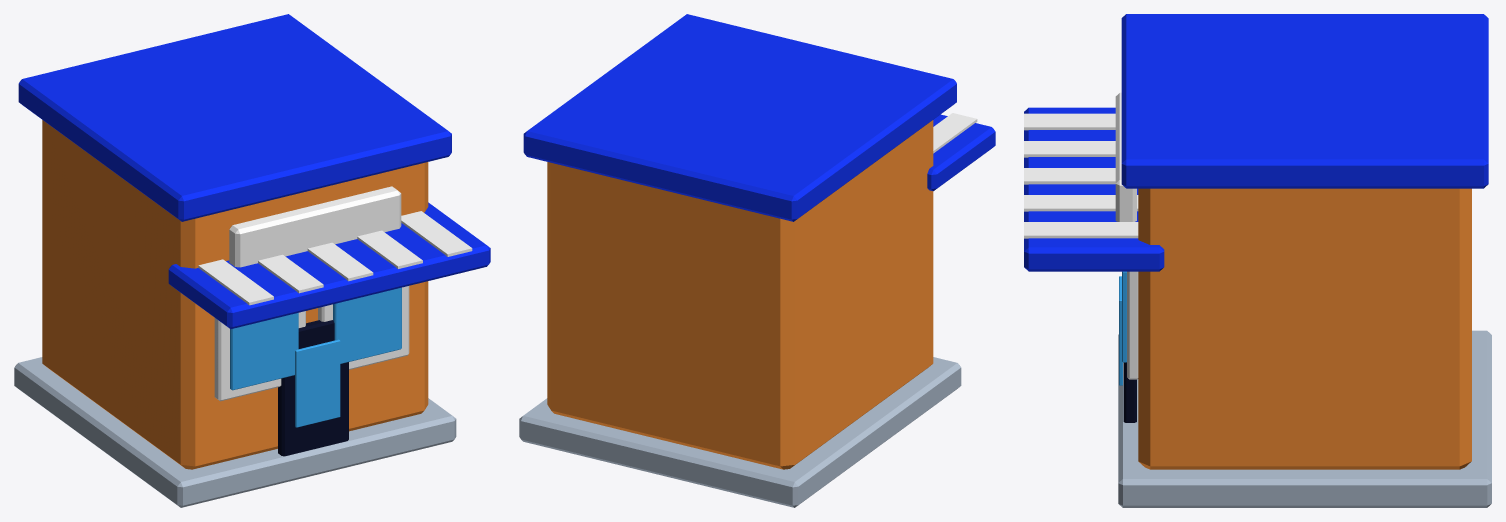
File: ENV_streets_kiosk__v001__model.fbx
3 renders of one model, left to right at view 1: azimuth 30°, elevation 25°; view 2: azimuth 150°, elevation 25°; view 3: azimuth 270°, elevation 25°, orthographic. The views are drawn at different scales.
Visible parts, largest first — view 1: ENV_streets_kiosk_Mesh; view 2: ENV_streets_kiosk_Mesh; view 3: ENV_streets_kiosk_Mesh.
Boxes of the visible parts, left/top/right/bottom form: ENV_streets_kiosk_Mesh: left=14, top=14, right=490, bottom=507; ENV_streets_kiosk_Mesh: left=519, top=14, right=995, bottom=507; ENV_streets_kiosk_Mesh: left=1024, top=14, right=1491, bottom=507.
Size of the model in its own units: 2.7 by 2.87 by 3.5.
1 material, 1 textured.
